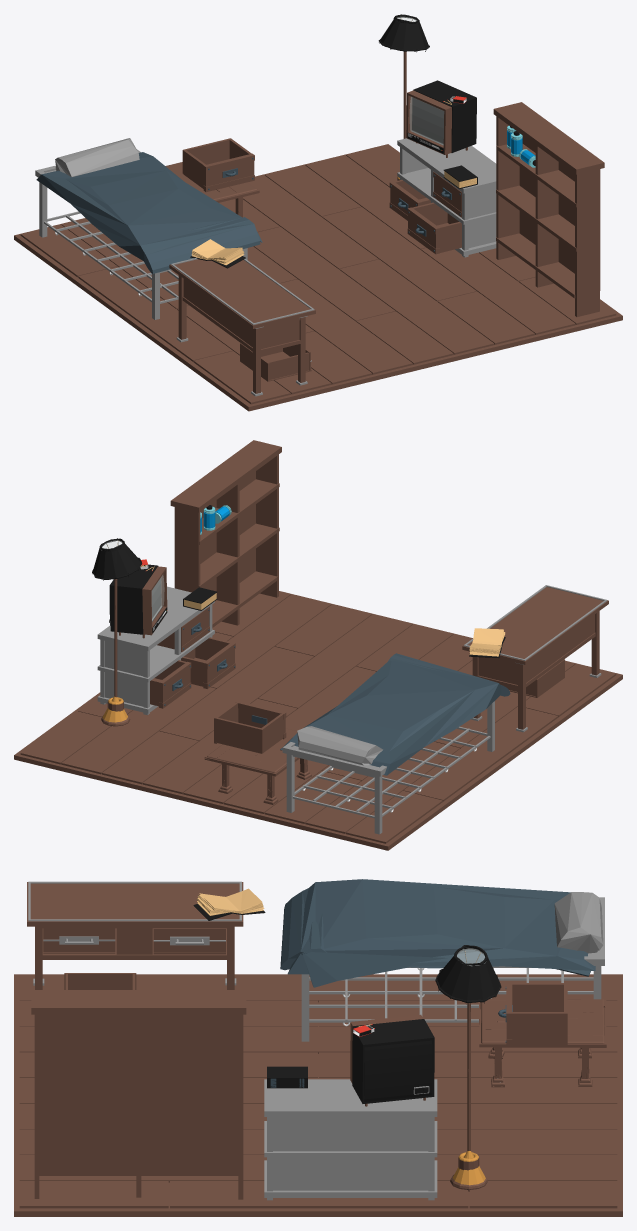
The model's file is Room space test.glb.
3 views of the same model, one above another, from view 1: azimuth 30°, elevation 25°; view 2: azimuth 150°, elevation 25°; view 3: azimuth 270°, elevation 25° (orthographic). The views are drawn at different scales.
Visible parts, largest first — view 1: group2645305, group1798272206, group1714897955, group222238581, group1474102766, group859514209, group1147037135, group1062164972, group105706913, group248139304, group1619388066, group184133515 (+30 smaller); view 2: group2645305, group1798272206, group1714897955, group222238581, group1188239518, group1474102766, group859514209, group1619388066, group2029118479, group248139304, group1062164972, group1611118520 (+28 smaller); view 3: group2645305, group1798272206, group1714897955, group222238581, group248139304, group1167660205, group433352594, group2129983180, group1097600467, group1619388066, group105706913, group783735842 (+29 smaller).
Part boxes in pixels (bbox=[...]): group2645305: bbox=[493, 102, 604, 316]; group1798272206: bbox=[36, 152, 252, 261]; group1714897955: bbox=[169, 257, 315, 396]; group222238581: bbox=[14, 144, 622, 411]; group1474102766: bbox=[339, 259, 494, 354]; group859514209: bbox=[322, 207, 476, 301]; group1147037135: bbox=[253, 227, 395, 321]; group1062164972: bbox=[420, 248, 575, 334]; group105706913: bbox=[243, 175, 378, 269]; group248139304: bbox=[406, 80, 476, 157]; group1619388066: bbox=[78, 266, 232, 361]; group184133515: bbox=[280, 279, 412, 374]; group2645305: bbox=[170, 440, 281, 627]; group1798272206: bbox=[280, 654, 501, 775]; group1714897955: bbox=[462, 585, 608, 732]; group222238581: bbox=[14, 591, 622, 850]; group1188239518: bbox=[282, 701, 494, 834]; group1474102766: bbox=[258, 614, 412, 708]; group859514209: bbox=[160, 646, 314, 741]; group1619388066: bbox=[403, 707, 558, 801]; group2029118479: bbox=[61, 684, 215, 774]; group248139304: bbox=[109, 564, 167, 638]; group1062164972: bbox=[211, 594, 331, 688]; group1611118520: bbox=[305, 741, 459, 833]; group2645305: bbox=[31, 990, 246, 1199]; group1798272206: bbox=[301, 879, 595, 970]; group1714897955: bbox=[27, 881, 243, 989]; group222238581: bbox=[14, 974, 622, 1216]; group248139304: bbox=[350, 1014, 434, 1106]; group1167660205: bbox=[273, 1117, 428, 1151]; group433352594: bbox=[273, 1157, 428, 1190]; group2129983180: bbox=[170, 1181, 468, 1208]; group1097600467: bbox=[319, 1052, 617, 1077]; group1619388066: bbox=[170, 975, 457, 1002]; group105706913: bbox=[434, 1103, 617, 1129]; group783735842: bbox=[264, 1079, 437, 1116].
Size of the model in its own units: 4.51 by 2.14 by 4.9.
